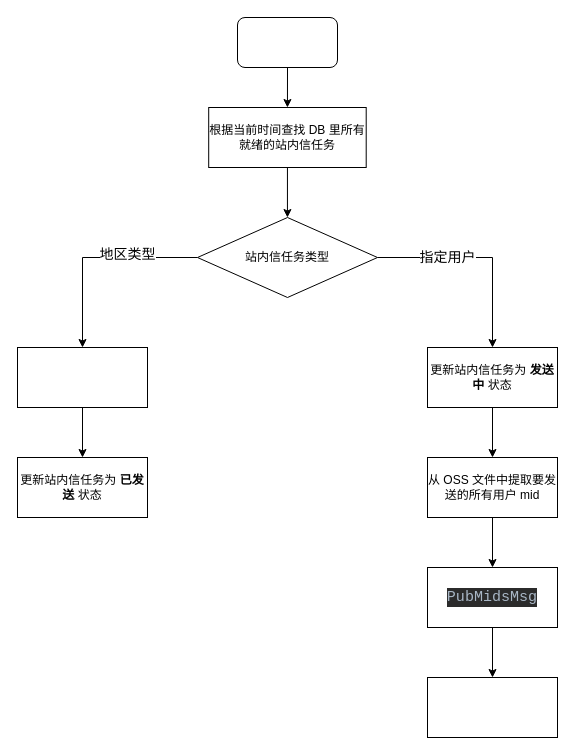
Some shapes in this 575 by 755 pixel diagram are drawn without their labels. The shapes that lost their labels are listed below. From the top down, each one's centre as x and y in pixels, then its label:
At point (287, 42): "开始".
At point (82, 377): "向 notify_pull 表中插入数据".
At point (492, 707): "PubMidsDoneMsg".
